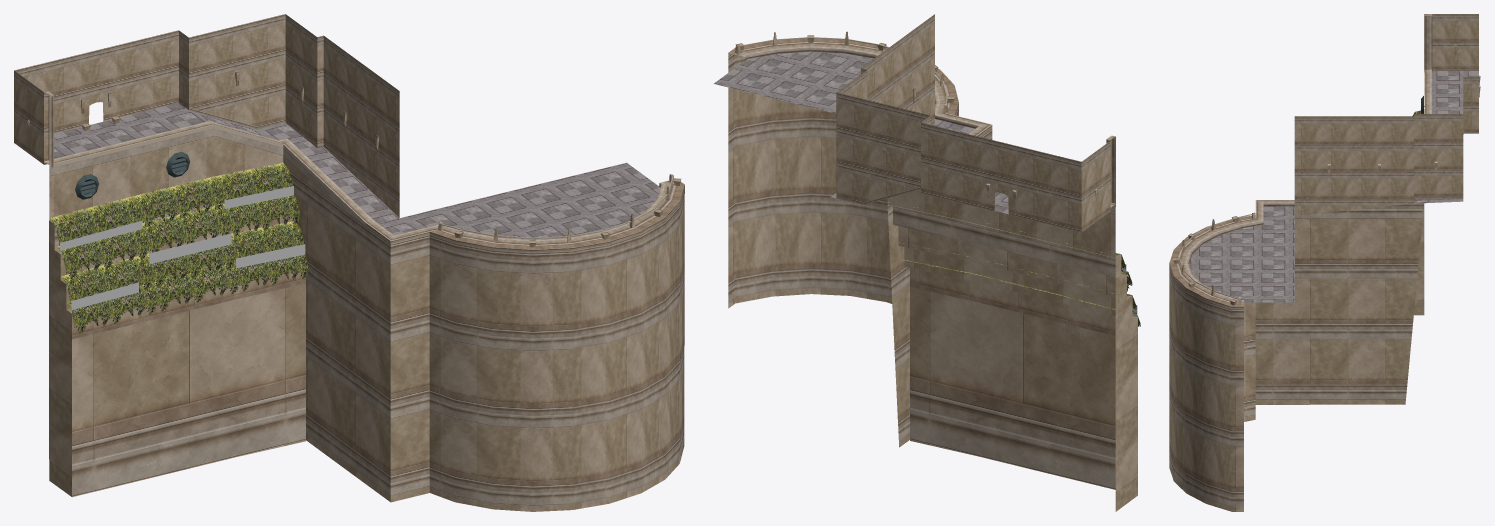
Rendered from Cor1_bldg_walk_lib.fbx.
3 views of the same model, side by side, from view 1: azimuth 30°, elevation 25°; view 2: azimuth 150°, elevation 25°; view 3: azimuth 270°, elevation 25° (orthographic). The views are drawn at different scales.
Parts seen in each view (by area): view 1: walk, polymsh1200, polymsh1201, polymsh_extracted, polymsh1231, polymsh1375; view 2: walk, polymsh1200, polymsh1231, polymsh1201; view 3: walk, polymsh1200, polymsh1231.
Boxes of the visible parts, x1,y1,x2,y2 form: walk: [14, 14, 684, 511]; polymsh1200: [49, 167, 305, 497]; polymsh1201: [49, 162, 308, 333]; polymsh_extracted: [60, 186, 305, 312]; polymsh1231: [27, 71, 674, 242]; polymsh1375: [75, 151, 190, 199]; walk: [713, 14, 1115, 447]; polymsh1200: [888, 204, 1137, 511]; polymsh1231: [735, 31, 1097, 203]; polymsh1201: [888, 202, 1140, 326]; walk: [1169, 14, 1478, 511]; polymsh1200: [1414, 111, 1424, 315]; polymsh1231: [1179, 44, 1480, 303].
Size of what is drawn, in the model's own units: 11842 by 8503 by 7935.
